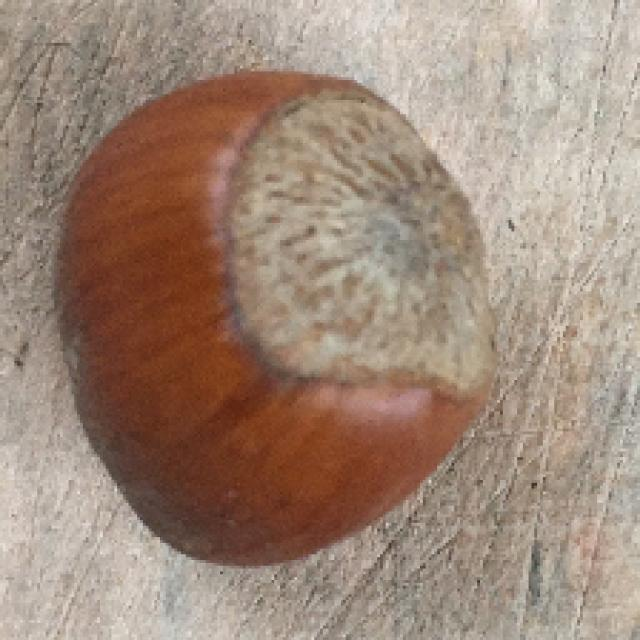qualityHazelnut: (61, 64, 493, 566)
